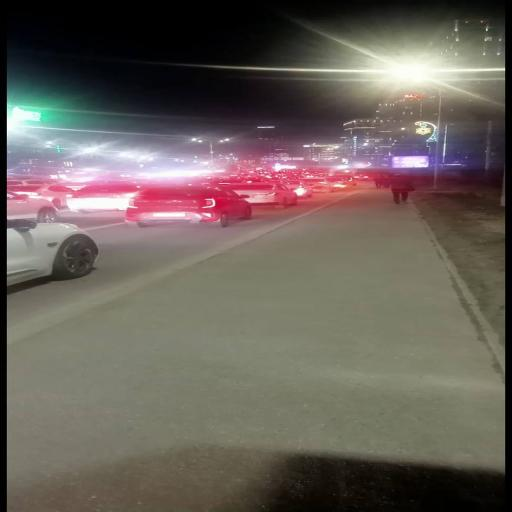book: (125, 186, 251, 227), (224, 182, 298, 208)
crosswalk: (389, 174, 415, 204)
glass_wall: (9, 192, 503, 512), (8, 192, 352, 334)
